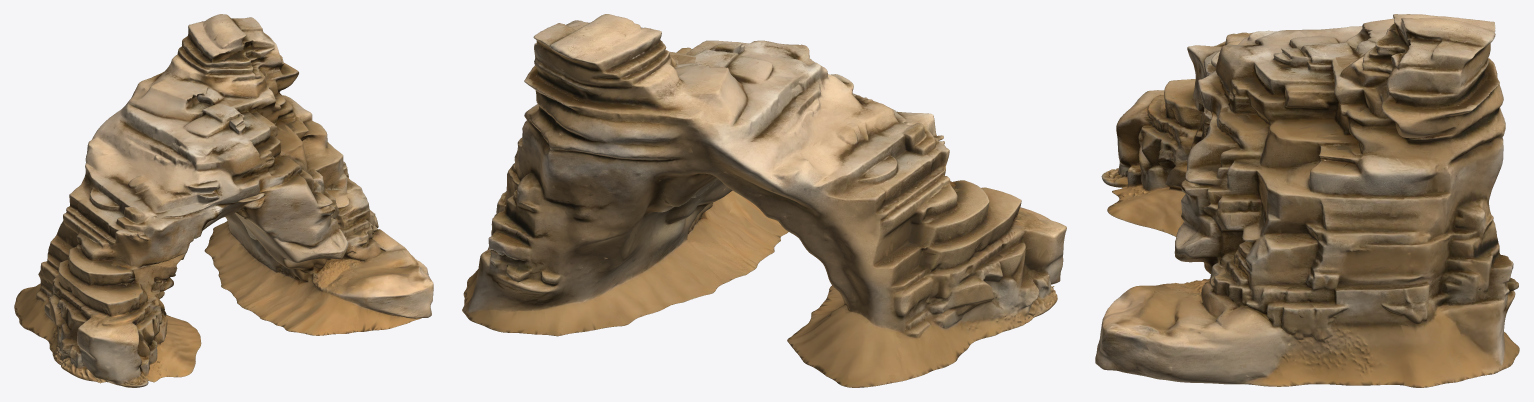
The model's file is Desert_Sandstone_Arch.glb.
3 renders of one model, left to right at view 1: azimuth 30°, elevation 25°; view 2: azimuth 150°, elevation 25°; view 3: azimuth 270°, elevation 25°, orthographic. The views are drawn at different scales.
Visible parts, largest first — view 1: Desert_Sandstone_Arch; view 2: Desert_Sandstone_Arch; view 3: Desert_Sandstone_Arch.
Boxes of the visible parts, x1,y1,x2,y2 form: Desert_Sandstone_Arch: (14, 14, 433, 387); Desert_Sandstone_Arch: (462, 14, 1066, 387); Desert_Sandstone_Arch: (1095, 14, 1519, 387).
Size of the model in its own units: 1.9 by 1.11 by 1.45.
Materials: 1 (1 with a texture image).
